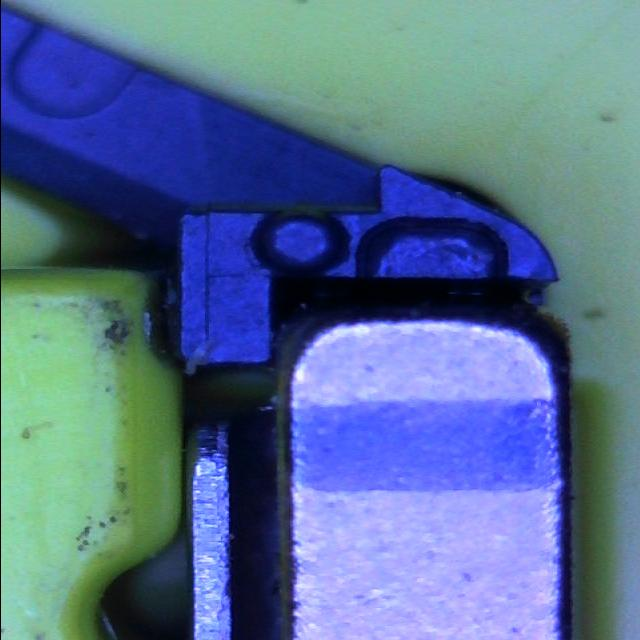lacking: (353, 215, 511, 287)
